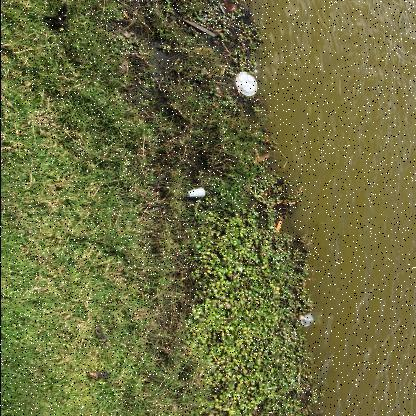cardboard: (185, 187, 204, 197)
foam: (234, 72, 256, 96)
plastic: (298, 312, 313, 326)
